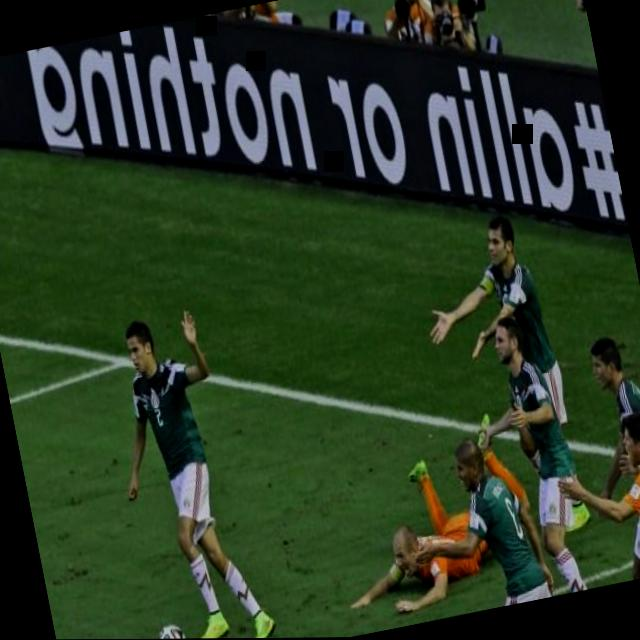Fall-Detected: (320, 427, 530, 638)
